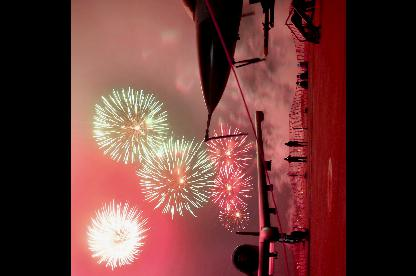A10: (192, 111, 310, 275)
F14: (178, 0, 316, 144)
